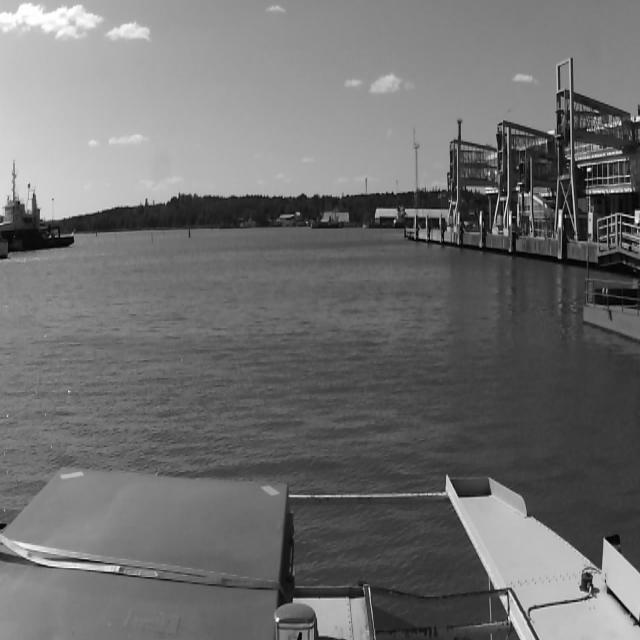buoy: (188, 223, 192, 240), (63, 241, 67, 254)
ship: (0, 159, 78, 255)
